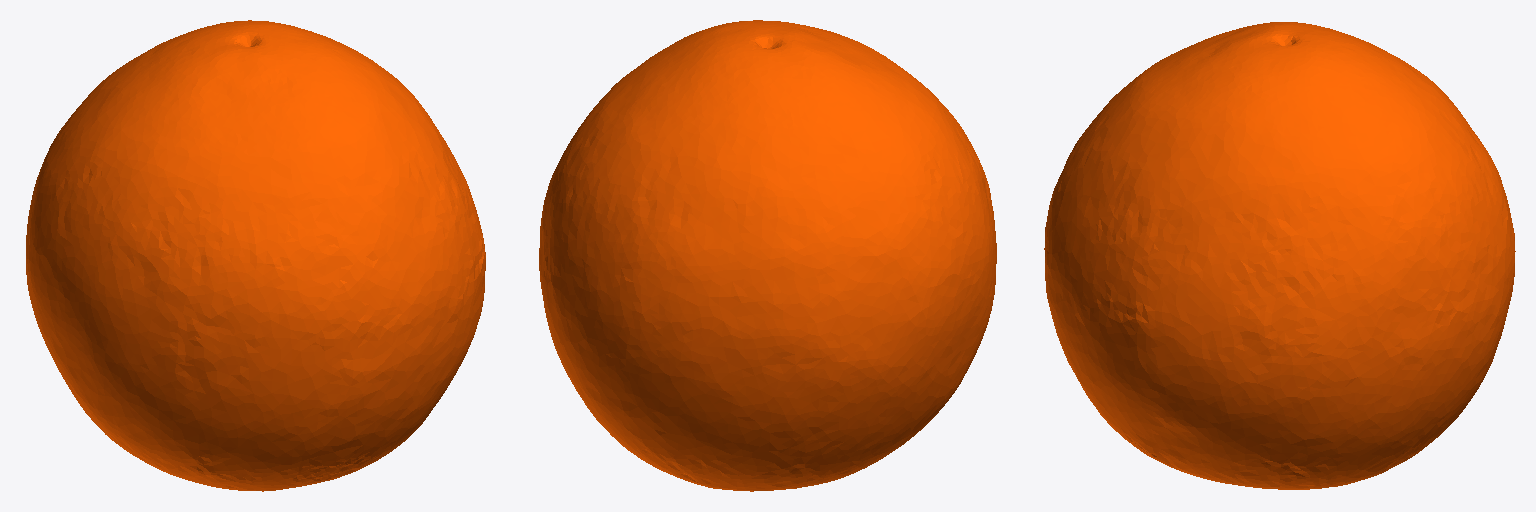
robot.urdf — 017_orange:
<?xml version="1.0" ?>
<robot name="017_orange">
   <material name="obj_color">
      <color rgba="1.0 0.423529411765 0.0392156862745 1.0"/>
   </material>
   <link name="top">
      <inertial>
         <origin rpy="0.0002088870028873389 0.0002104823735656539 0.0002149704195322327" xyz="-0.000611019018820006 0.0003036272806954599 -0.004655420648853925"/>
         <mass value="0.3973363964173602"/>
         <inertia ixx="0.0002142171929975956" ixy="-7.385316243681604e-07" ixz="1.519951156593772e-06" iyy="0.0002090930348564467" iyz="-6.316023715324504e-07" izz="0.0002110295681311831"/>
      </inertial>
      <visual>
         <origin rpy="0 0 0" xyz="0 0 0"/>
         <geometry>
            <mesh filename="top_watertight_tiny.stl" scale="1 1 1"/>
         </geometry>
         <material name="obj_color"/>
      </visual>
      <collision>
         <origin rpy="0 0 0" xyz="0 0 0"/>
         <geometry>
            <mesh filename="top_watertight_tiny.obj" scale="1 1 1"/>
         </geometry>
      </collision>
   </link>
   <link name="bottom">
      <inertial>
         <origin rpy="1.633333333199431e-08 1.633333333199431e-08 1.633333333362855e-08" xyz="0.3464080000000008 0.3464080000000008 0.3464080000000008"/>
         <mass value="0.0009800000000000017"/>
         <inertia ixx="1.633333333253906e-08" ixy="5.447480642029219e-19" ixz="5.447480642029219e-19" iyy="1.633333333253906e-08" iyz="5.447480642029219e-19" izz="1.633333333253906e-08"/>
      </inertial>
      <visual>
         <origin rpy="0 0 0" xyz="0 0 0"/>
         <geometry>
            <mesh filename="bottom_watertight_tiny.stl" scale="1 1 1"/>
         </geometry>
         <material name="obj_color"/>
      </visual>
   </link>
   <joint name="rotation" type="revolute">
      <origin xyz="0 0 0"/>
      <axis xyz="0 0 -1"/>
      <parent link="bottom"/>
      <child link="top"/>
      <dynamics damping="1.0" friction="1.0"/>
      <limit effort="0.1" velocity="0.1" lower="0" upper="0.001"/>
   </joint>
</robot>

--- Facts derived from the render (not from the file) ---
3 views of the same robot in one strip: view 1: azimuth 30°, elevation 25°; view 2: azimuth 150°, elevation 25°; view 3: azimuth 270°, elevation 25° (orthographic).
Robot: 017_orange — 2 links, 1 joints (1 revolute); root link bottom; default pose: all joints at 0.
Visible links, largest first — view 1: top; view 2: top; view 3: top.
Boxes of the visible links, bbox=[...] form: top: bbox=[26, 20, 485, 491]; top: bbox=[539, 20, 996, 491]; top: bbox=[1044, 22, 1515, 489].
Size in the robot's own frame: 0.0722 by 0.074 by 0.0714 metres.
1 mesh visuals loaded from 2 distinct referenced files (1 binary STL); not drawn: 1 (reference not matched to a file when rendering).
